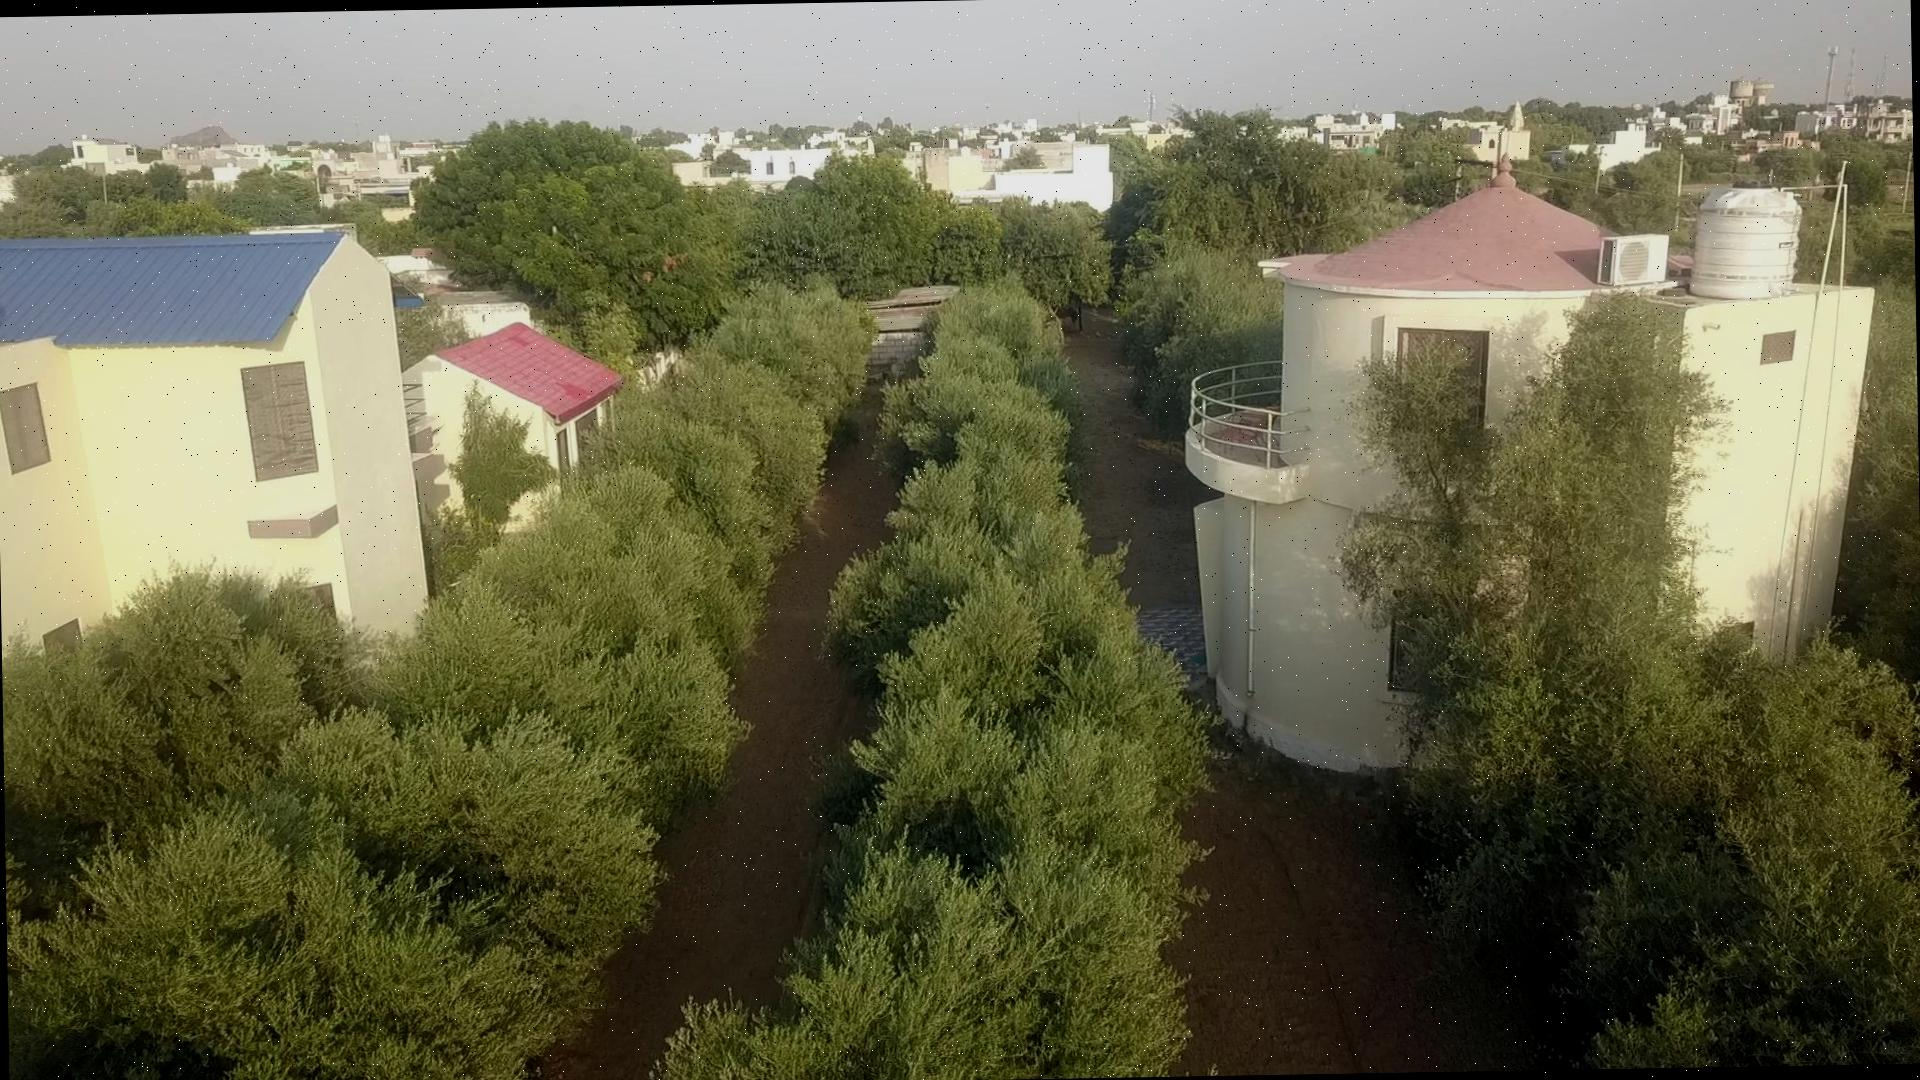canopy: (7, 285, 873, 1080), (1350, 309, 1920, 1067), (659, 289, 1203, 1080)
road: (1064, 318, 1555, 1075), (541, 388, 913, 1080)
